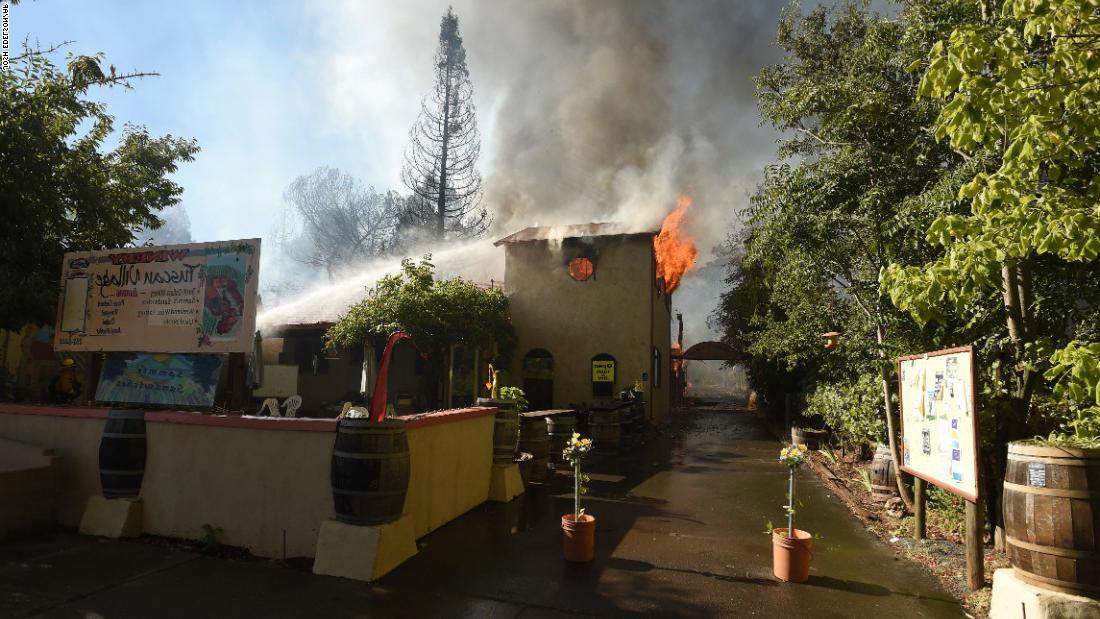Fire: (642, 189, 707, 298)
